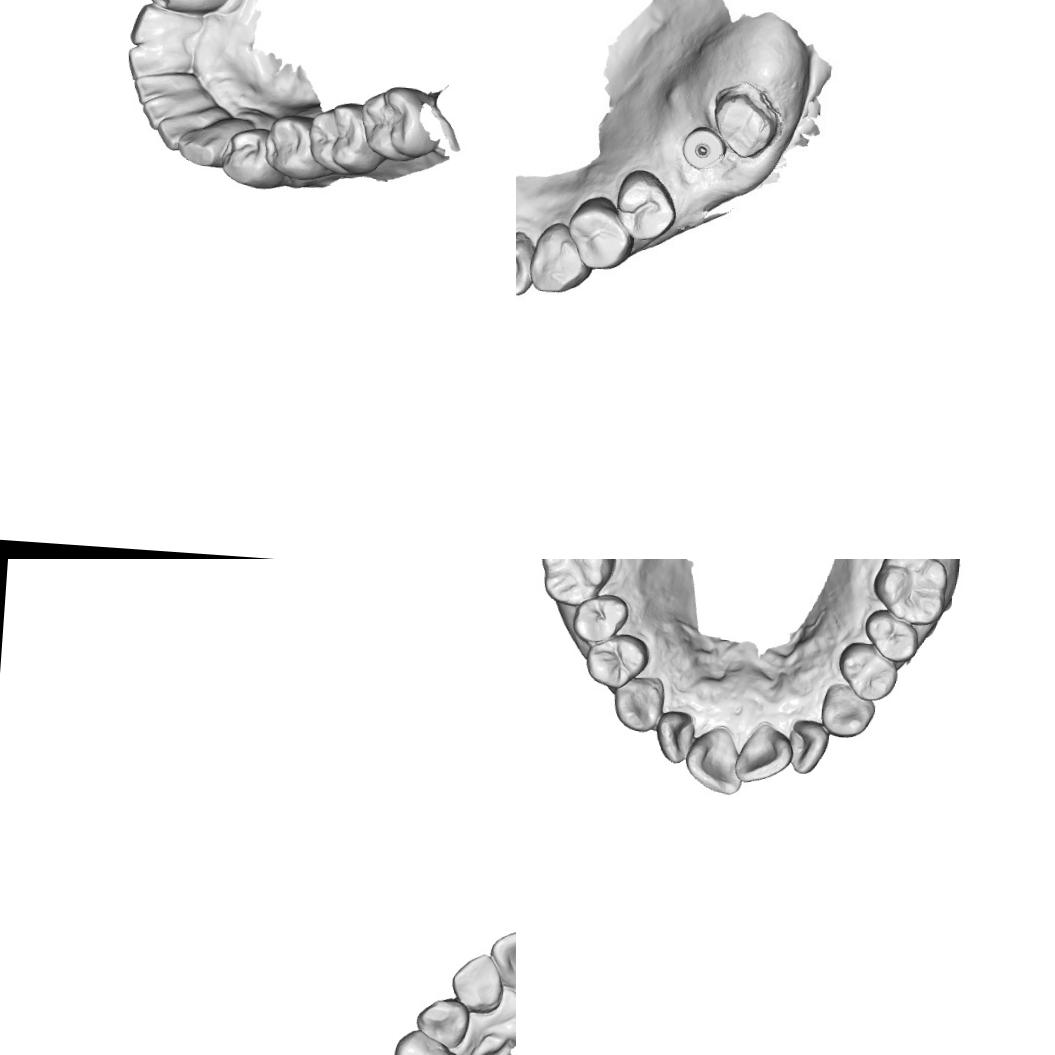canine: (522, 221, 591, 297), (126, 1, 204, 48), (817, 680, 878, 740), (412, 993, 472, 1052), (610, 672, 666, 734), (176, 124, 228, 168)
crown: (708, 80, 782, 161)
implant: (680, 126, 725, 172)
incisor: (682, 723, 745, 797), (732, 718, 796, 786), (448, 948, 506, 1016), (785, 717, 832, 776), (484, 921, 516, 1003), (652, 708, 696, 764), (140, 93, 187, 132), (516, 225, 538, 299), (154, 114, 188, 154), (125, 42, 158, 81), (131, 68, 165, 105)
molar: (356, 82, 442, 165), (305, 98, 390, 178), (869, 559, 950, 627), (536, 559, 618, 609)
premolar: (563, 190, 637, 274), (611, 164, 678, 245), (261, 111, 329, 183), (218, 124, 288, 192), (582, 630, 651, 692), (834, 639, 900, 703), (861, 606, 920, 664), (569, 590, 629, 644), (389, 1026, 464, 1055), (145, 0, 232, 15)
